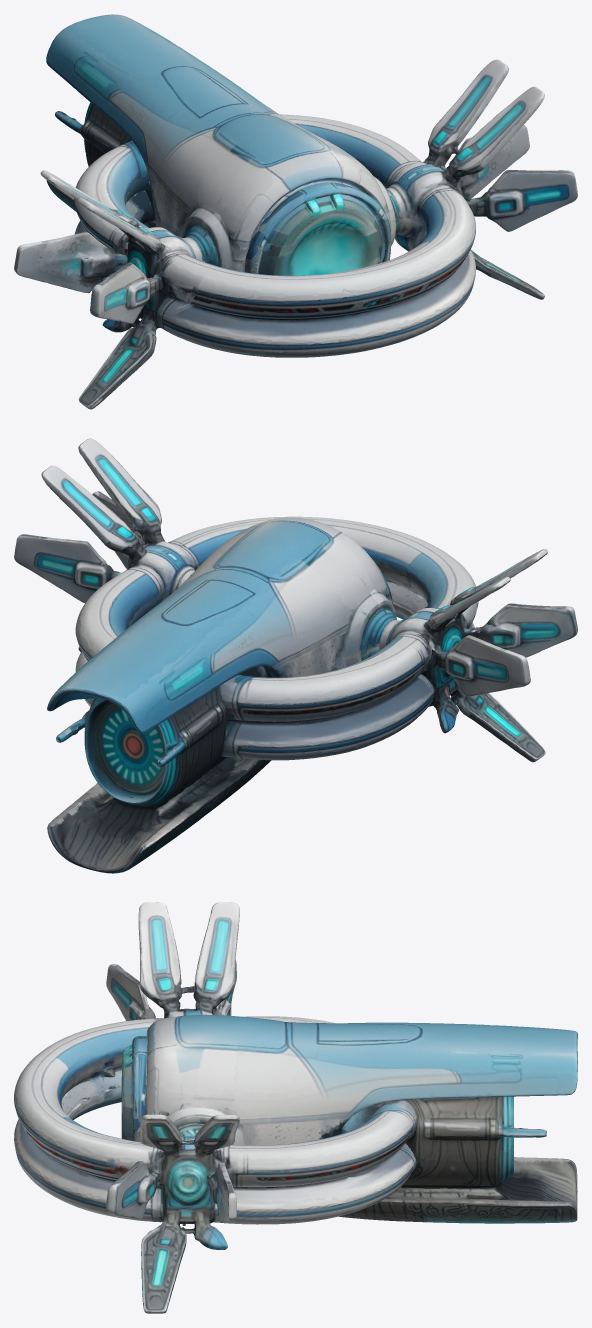
The model's file is purifier_stage2.glb.
3 views of the same model, one above another, from view 1: azimuth 30°, elevation 25°; view 2: azimuth 150°, elevation 25°; view 3: azimuth 270°, elevation 25° (orthographic). The views are drawn at different scales.
Parts seen in each view (by area): view 1: world; view 2: world; view 3: world.
Part boxes in pixels (x1,y1,x2,y2): world: [14, 14, 577, 409]; world: [14, 438, 577, 873]; world: [14, 902, 577, 1313].
Size of the model in its own units: 1 by 0.3999 by 0.99.
Materials: 1 (1 with a texture image).
